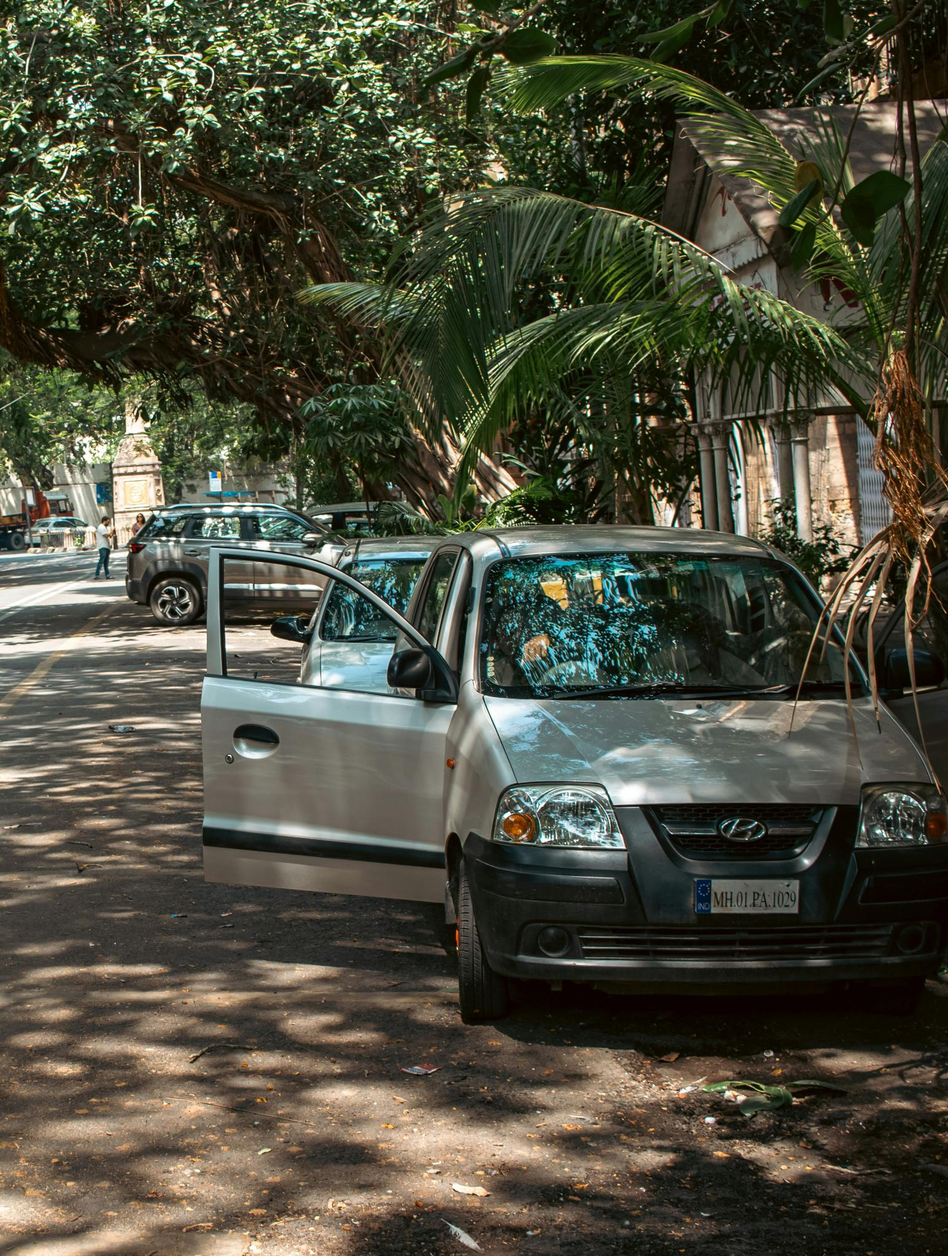car: (189, 515, 947, 1020), (128, 488, 339, 616), (303, 533, 455, 699)
pedestrian: (94, 513, 117, 576)
